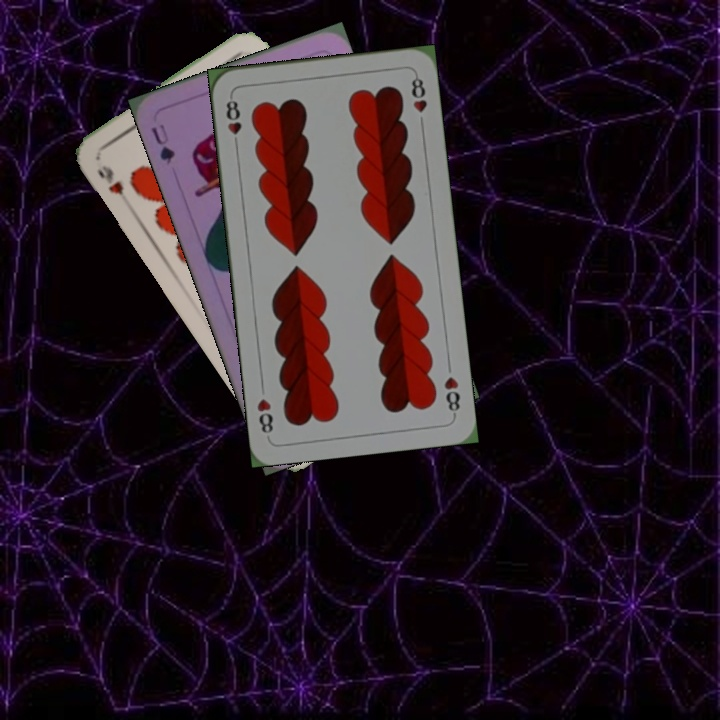GU: (147, 120, 178, 167)
H8: (222, 92, 244, 151), (440, 372, 462, 419)
H9: (93, 161, 126, 198)
